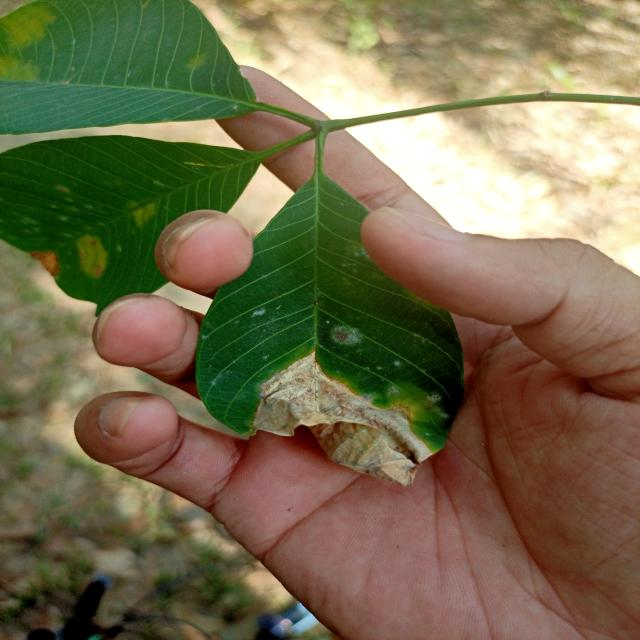Leaf-Blight: (252, 351, 433, 487)
